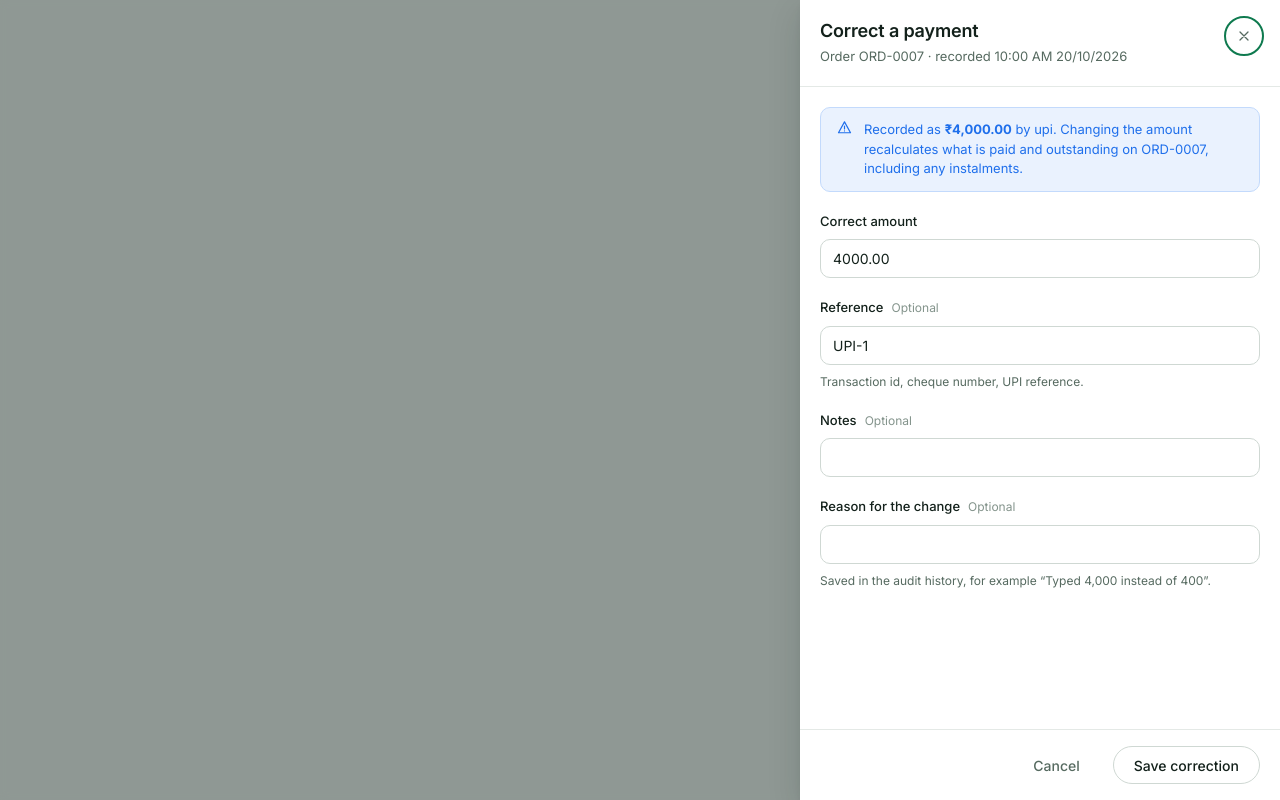
Test case: PaymentEditDrawer › shows the server's refusal
Replace the text in the field labelled "Correct amount" with "4500" at {"x": 1040, "y": 258}, box [820,239,1260,278]
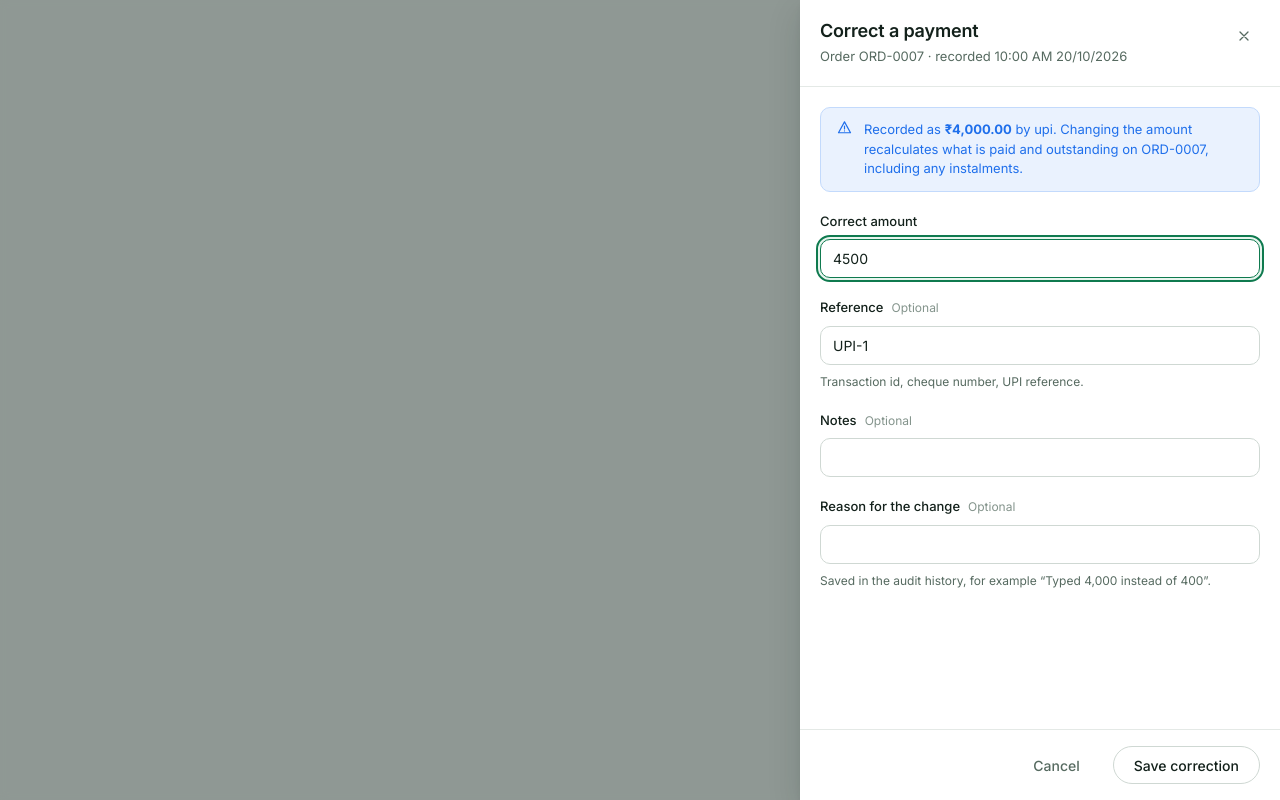
Click the button "Save correction" at {"x": 1186, "y": 765}, box [1113,746,1260,784]
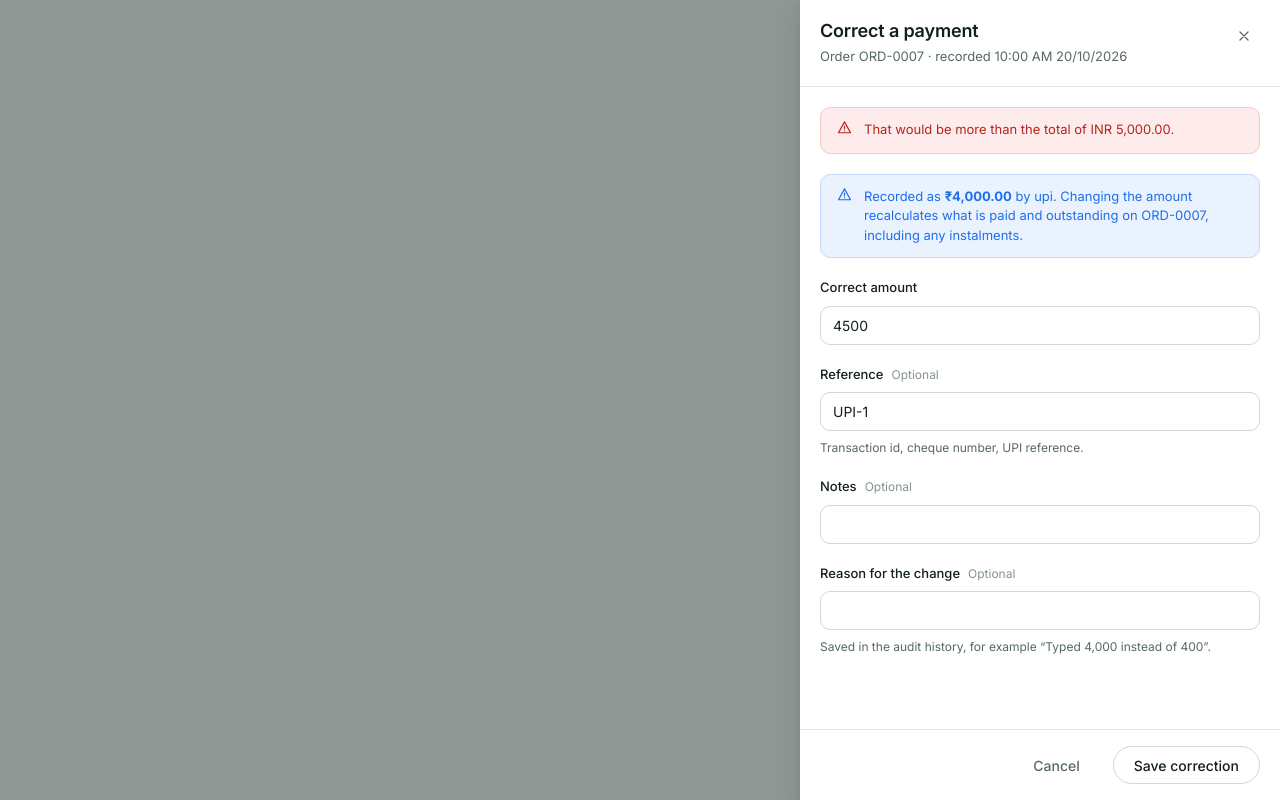
Expected: the text "That would be more than the total of INR 5,000.00." is shown, [864,120,1174,140]
